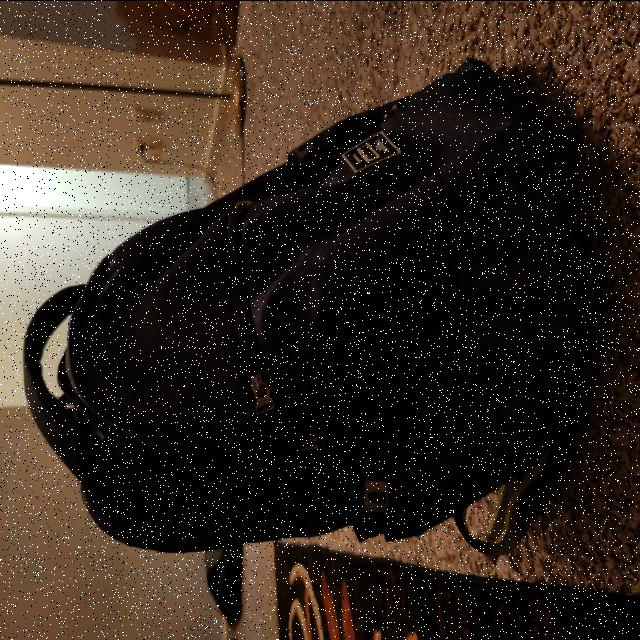bag: (23, 80, 583, 538)
